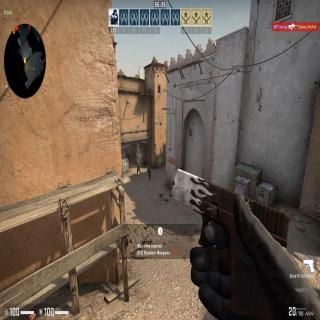CT-Body: (147, 165, 151, 179), (136, 161, 140, 174)
CT-Head: (148, 165, 150, 168), (137, 161, 139, 163)
